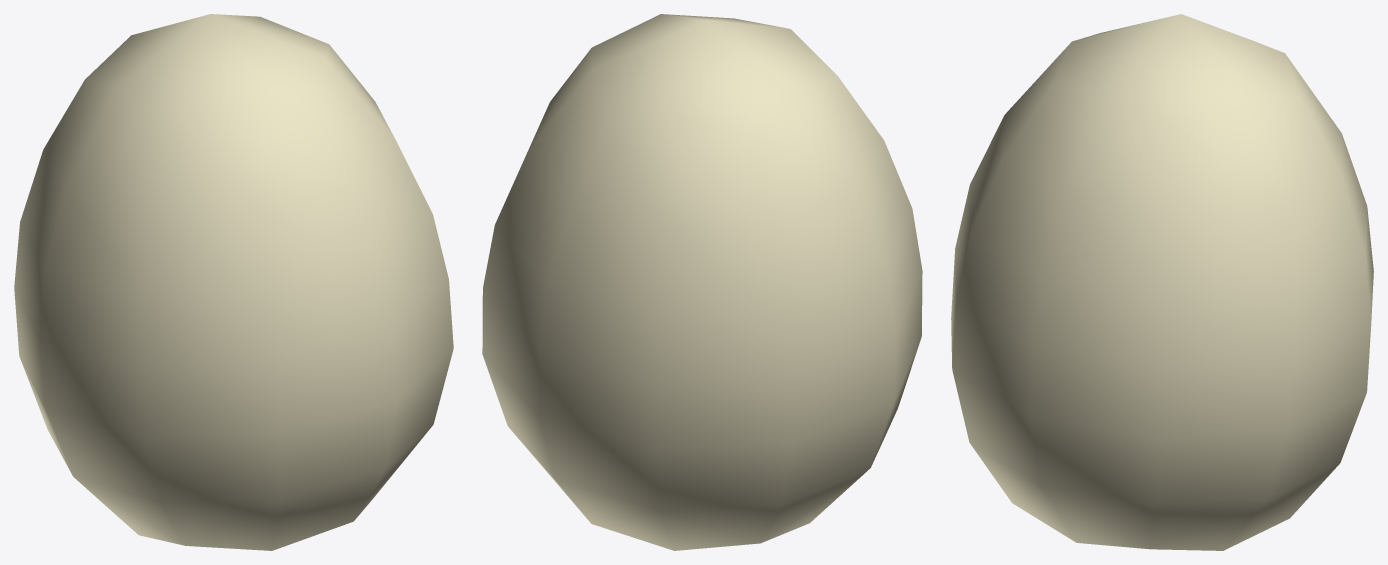
File: Huevo.fbx
The picture shows the model from 3 angles, left to right: view 1: azimuth 30°, elevation 25°; view 2: azimuth 150°, elevation 25°; view 3: azimuth 270°, elevation 25°; orthographic projection.
Parts seen in each view (by area): view 1: Sphere; view 2: Sphere; view 3: Sphere.
Part boxes in pixels (left/top/right/bottom): Sphere: left=14, top=14, right=453, bottom=550; Sphere: left=482, top=14, right=922, bottom=550; Sphere: left=951, top=14, right=1373, bottom=550.
Bounding box in the file's own units: 47.39 × 61.9 × 45.34.
